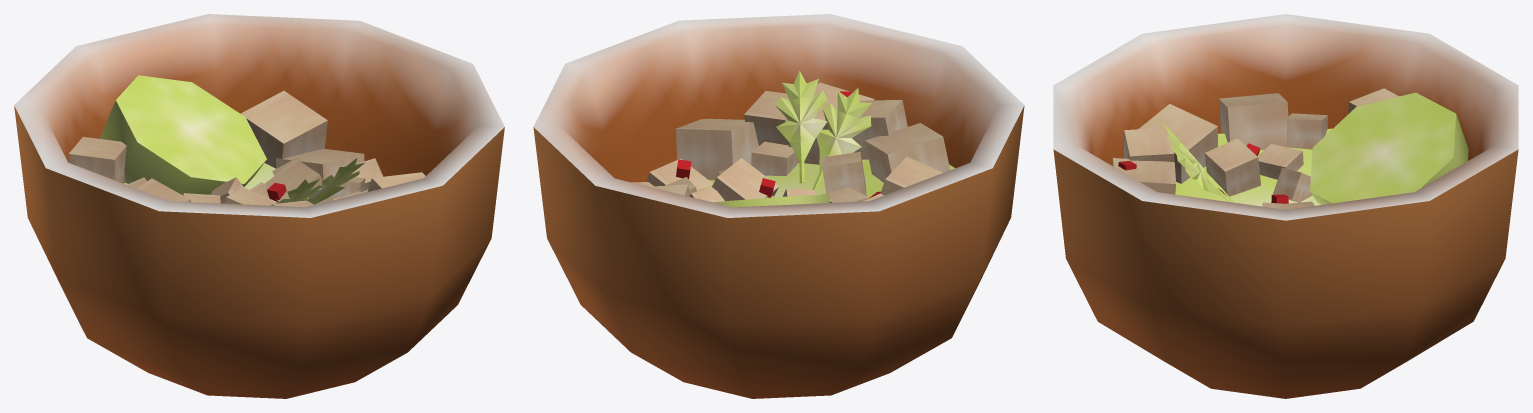
File: BowlCeviche.fbx
The picture shows the model from 3 angles, left to right: view 1: azimuth 30°, elevation 25°; view 2: azimuth 150°, elevation 25°; view 3: azimuth 270°, elevation 25°; orthographic projection.
Visible parts, largest first — view 1: BowlCeviche; view 2: BowlCeviche; view 3: BowlCeviche.
Part boxes in pixels (x1,y1,x2,y2): BowlCeviche: [14, 14, 504, 398]; BowlCeviche: [533, 14, 1024, 398]; BowlCeviche: [1053, 14, 1518, 398].
Size of the model in its own units: 27.48 by 14.12 by 26.14.
